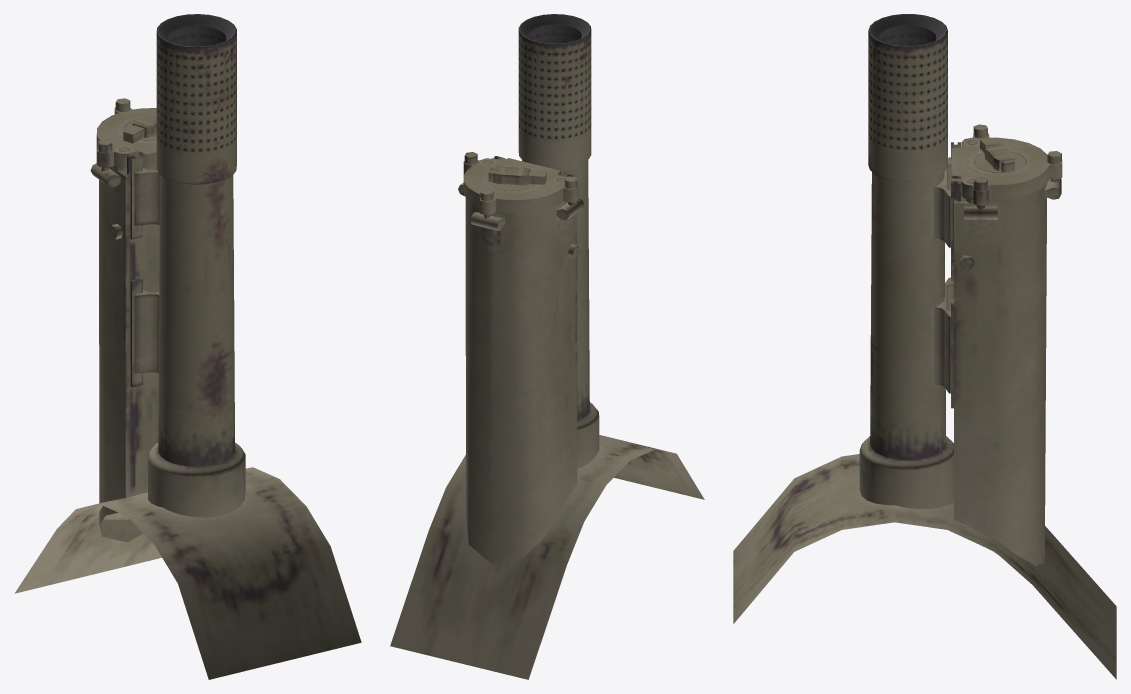
Rendered from Gun_02.glb.
3 renders of one model, left to right at view 1: azimuth 30°, elevation 25°; view 2: azimuth 150°, elevation 25°; view 3: azimuth 270°, elevation 25°, orthographic. The views are drawn at different scales.
Visible parts, largest first — view 1: set_0_group_0; view 2: set_0_group_0; view 3: set_0_group_0.
Boxes of the visible parts, bbox=[...] form: set_0_group_0: bbox=[14, 14, 361, 679]; set_0_group_0: bbox=[390, 14, 704, 679]; set_0_group_0: bbox=[733, 14, 1116, 679].
Bounding box in the file's own units: 0.362 × 1.41 × 0.7978.
Materials: 1 (1 with a texture image).
